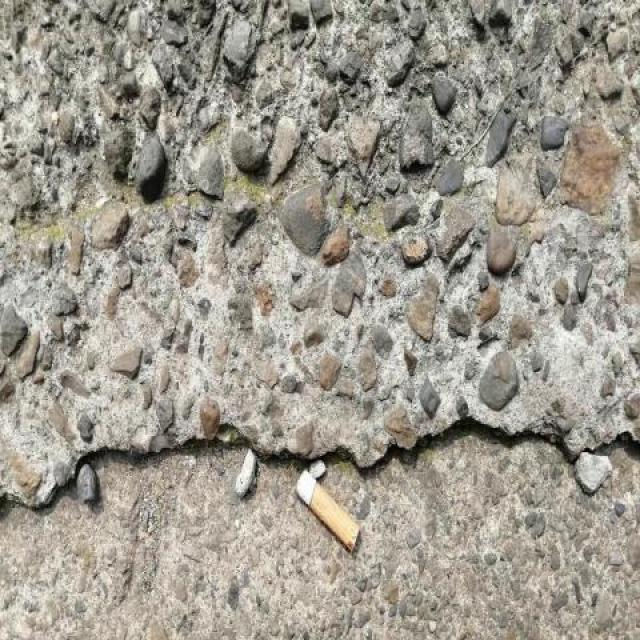non-organic waste: (292, 464, 363, 555)
